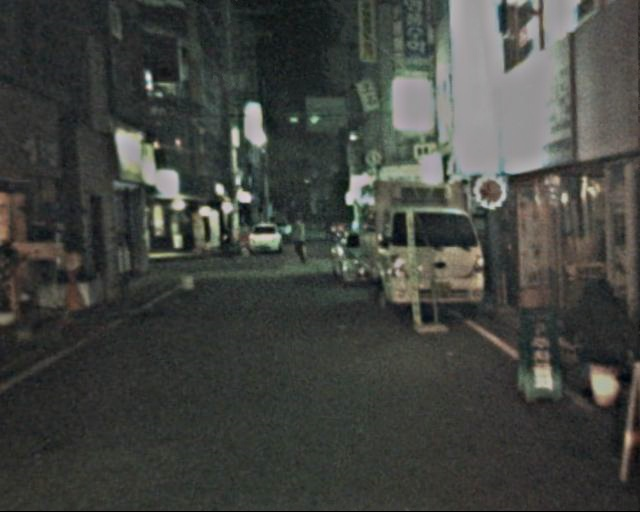person: (286, 217, 307, 267)
